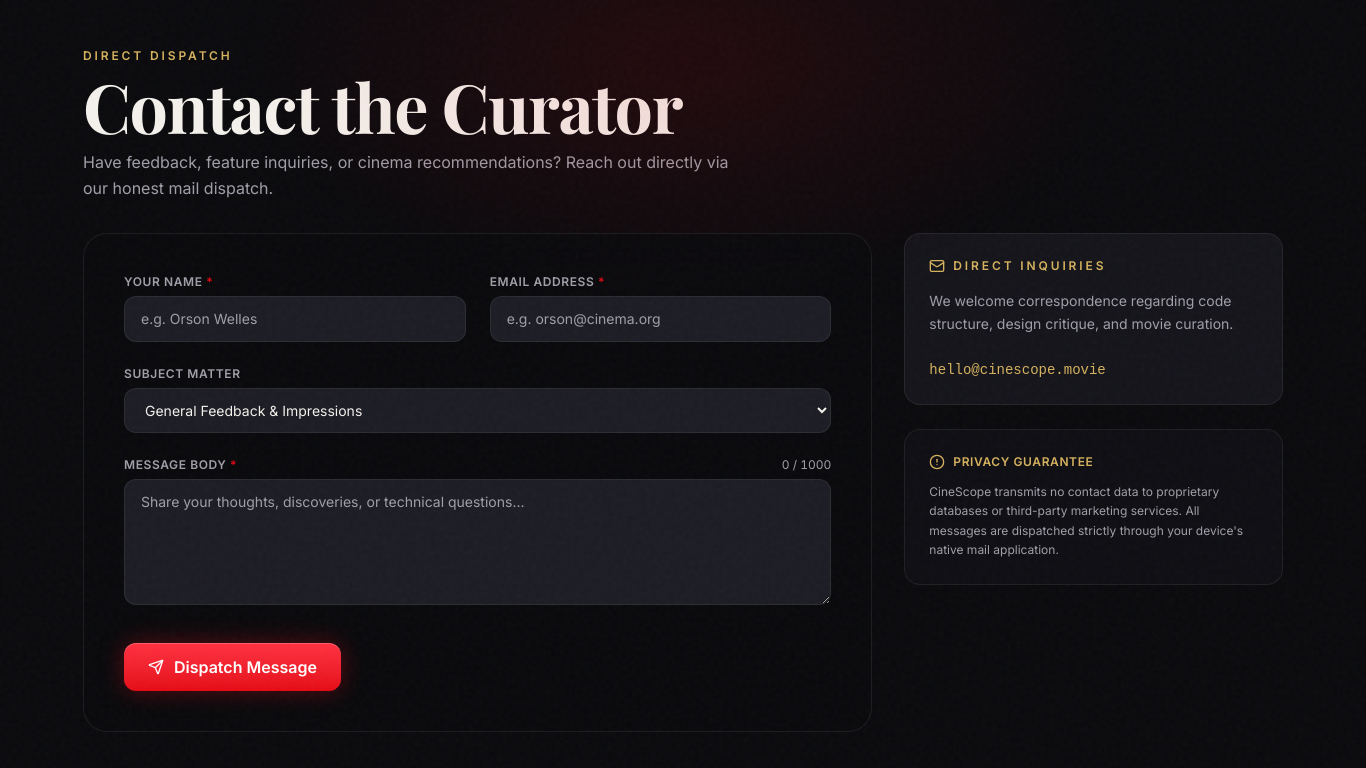
Scenario: Contact Page › validates empty inputs on submit and displays accessible inline errors
The image size is (1366, 768).
Click the button "Dispatch Message" at (232, 667), box 124,643 -> 341,691
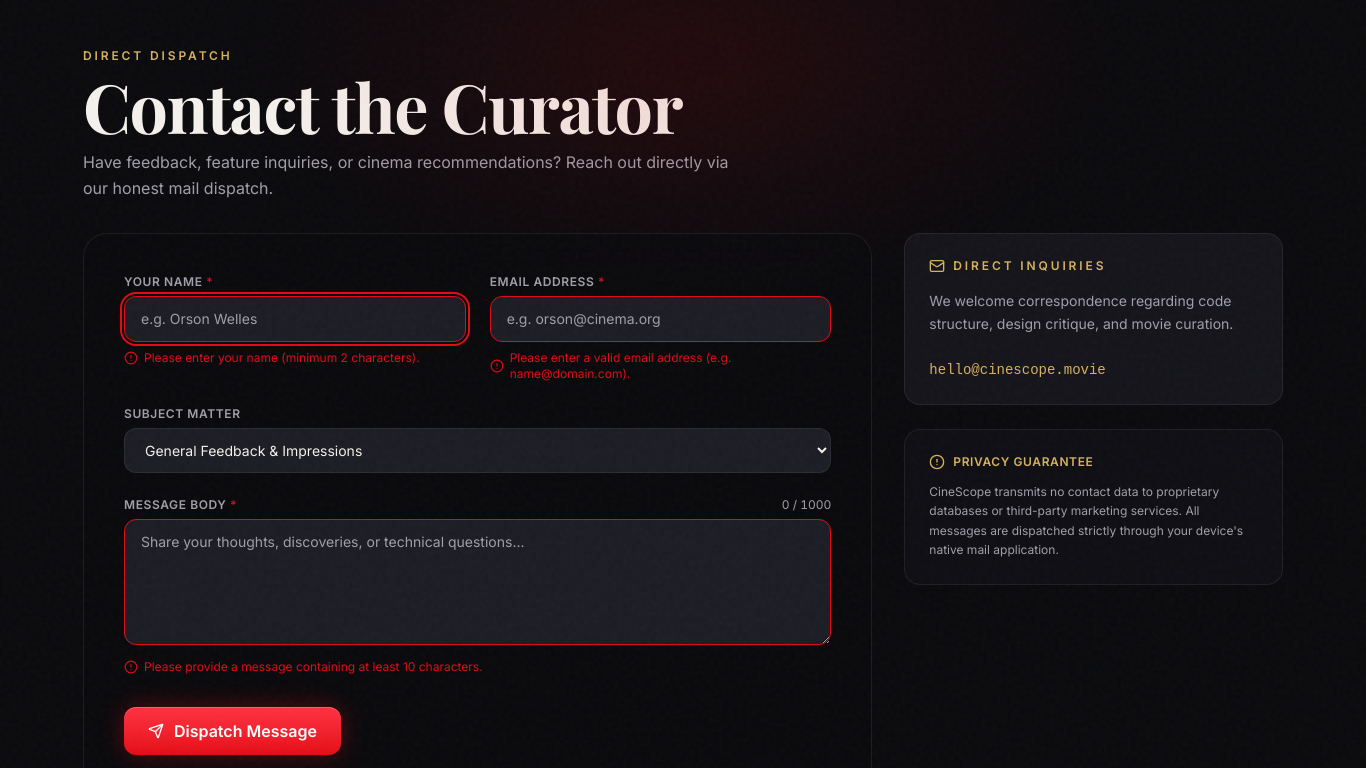
Expected: the text "Please enter your name (minimum 2 characters)." is shown, 144,350 -> 420,366
Expected: the text "Please enter a valid email address (e.g. name@domain.com)." is shown, 510,350 -> 731,381
Expected: the text "Please provide a message containing at least 10 characters." is shown, 144,659 -> 483,675
